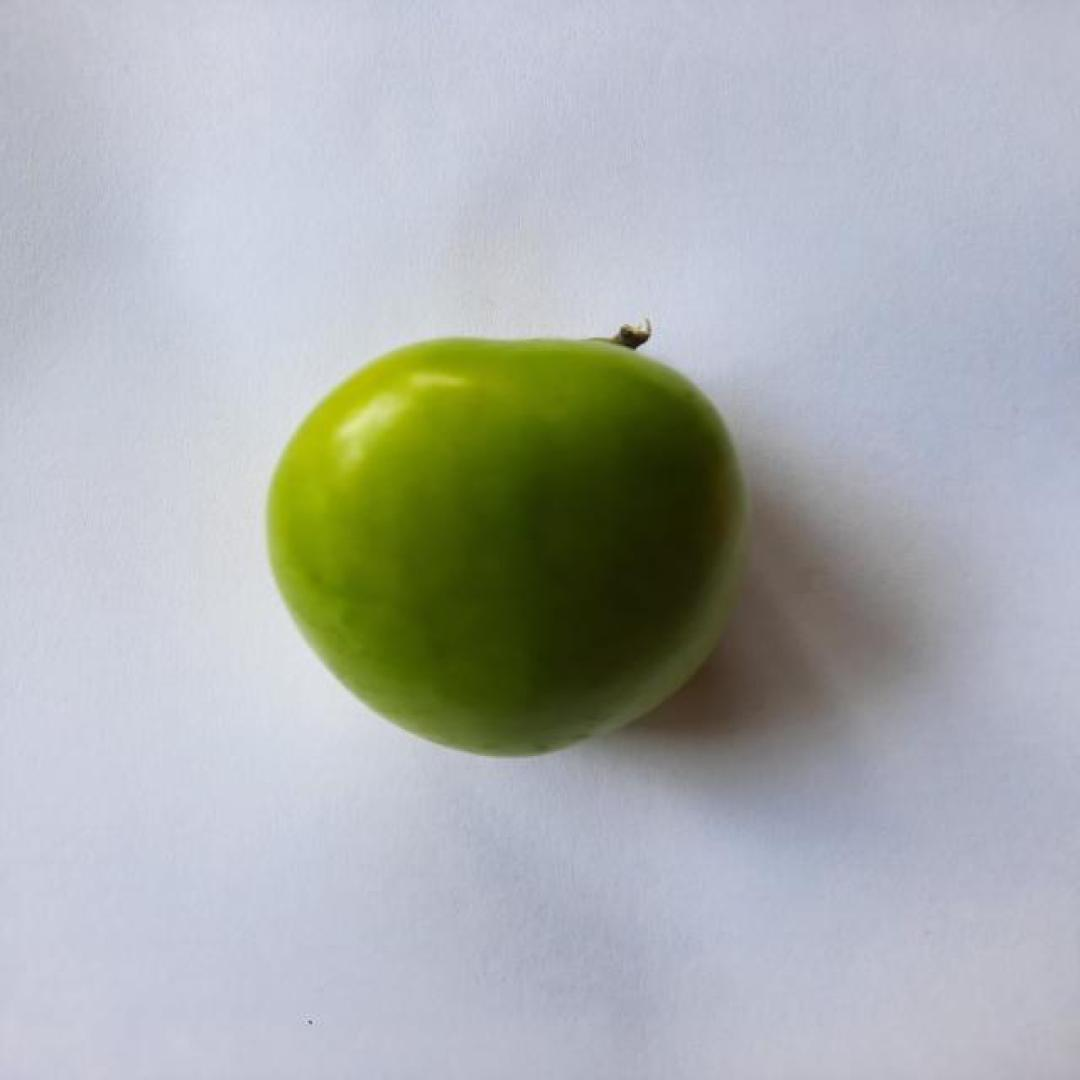mentah: (265, 338, 747, 760)
